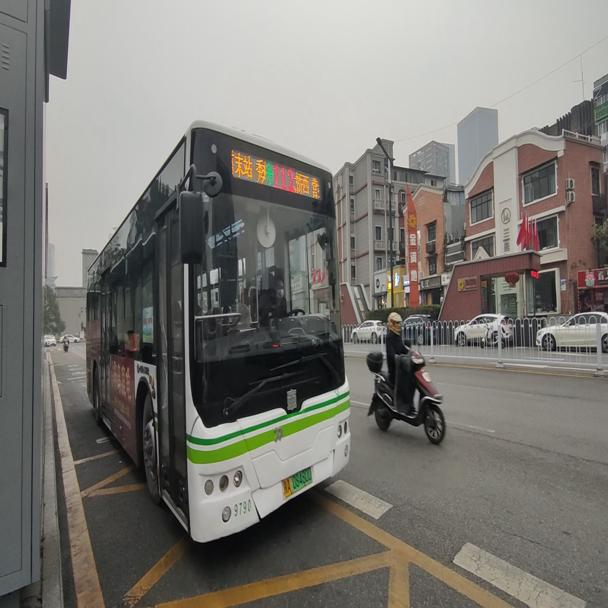bus: (82, 117, 352, 546)
screen: (272, 159, 295, 193)
